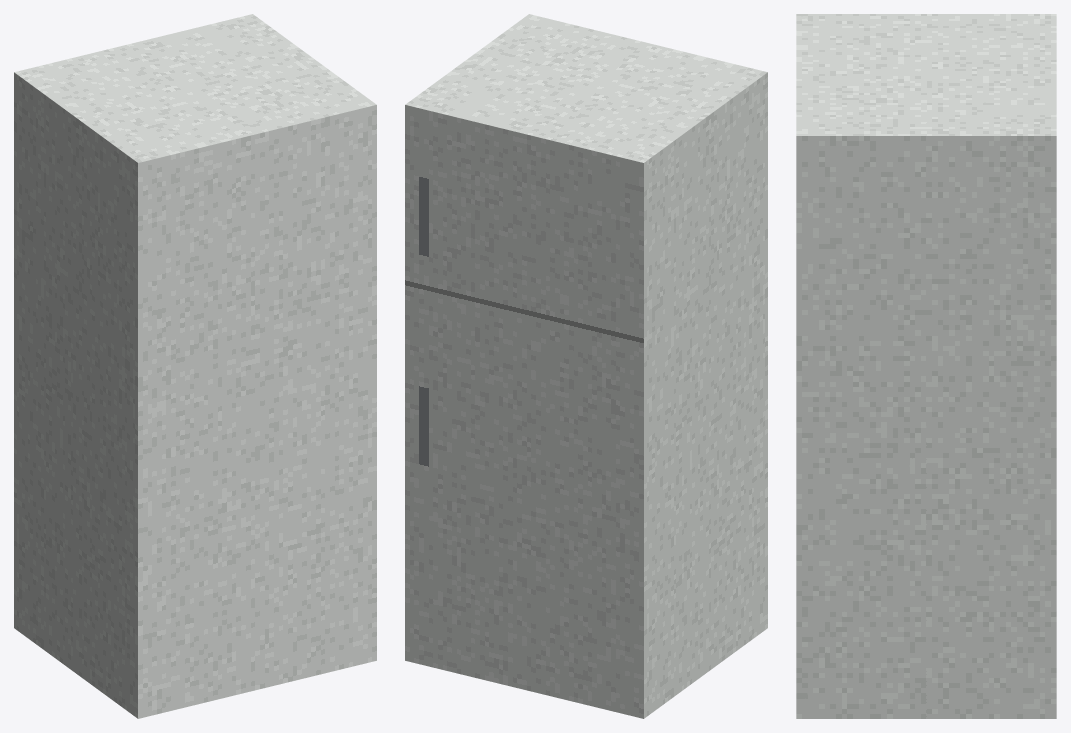
Rendered from f_fridge.glb.
3 renders of one model, left to right at view 1: azimuth 30°, elevation 25°; view 2: azimuth 150°, elevation 25°; view 3: azimuth 270°, elevation 25°, orthographic. The views are drawn at different scales.
Parts seen in each view (by area): view 1: block_body; view 2: block_body; view 3: block_body.
Part boxes in pixels (left/top/right/bottom): block_body: left=14, top=14, right=376, bottom=718; block_body: left=405, top=14, right=767, bottom=718; block_body: left=796, top=14, right=1056, bottom=718.
Size of the model in its own units: 0.8 by 1.78 by 0.72.
Materials: 1 (1 with a texture image).
